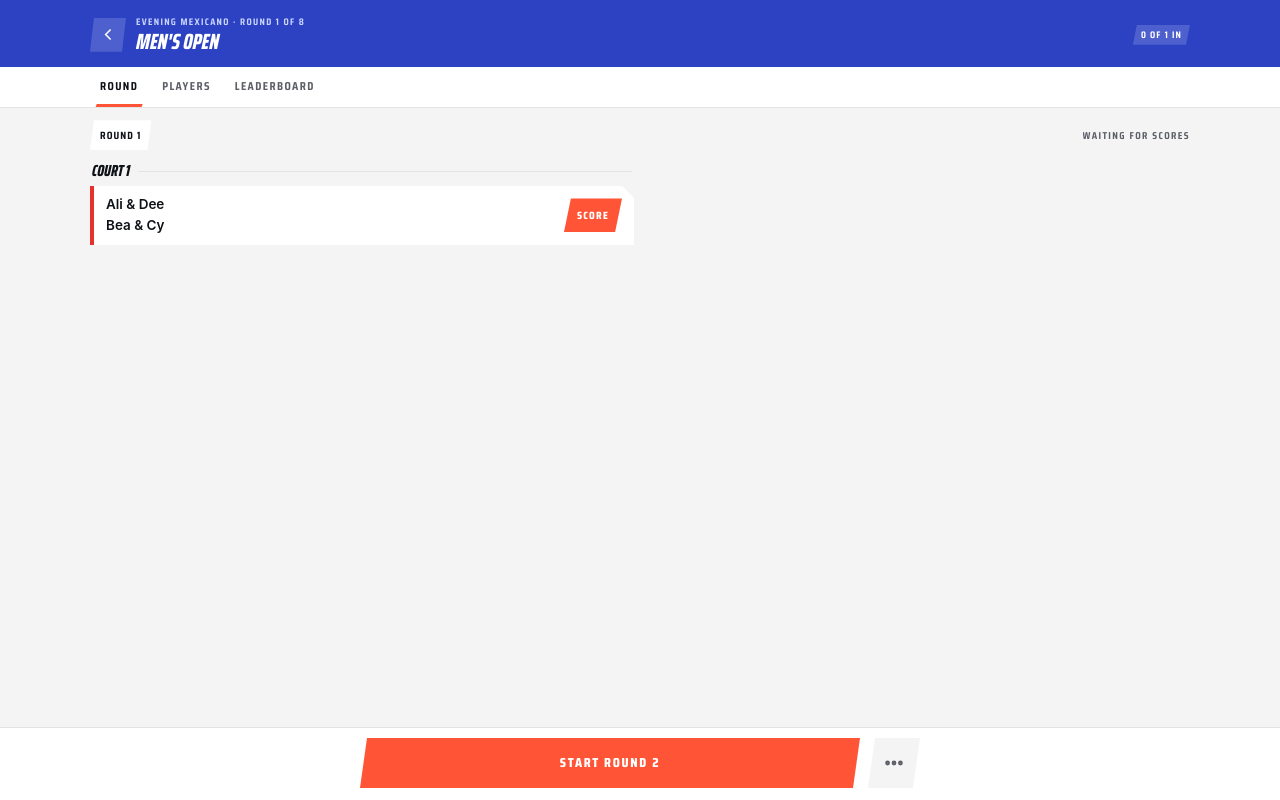
closes the ⋯ menu when a round starts, so Undo can't target the new round by mistake
Expected: the heading "Men's Open" is shown, [136,24,219,59]
Click the button named "More actions": (894, 763) [868,738,920,788]
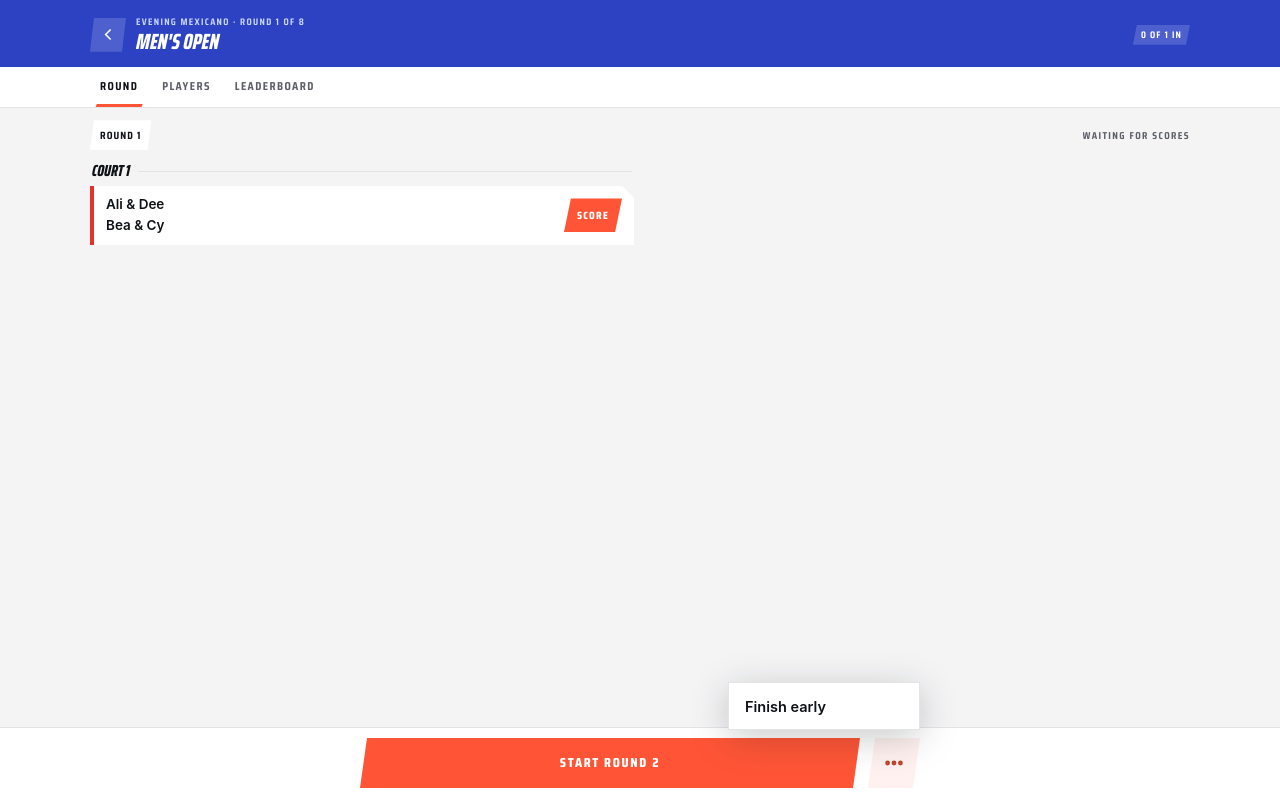
Result: the button "Finish early" is shown at [729,683,919,729]
Click the button "Start round 2": (610, 763) [360,738,860,788]
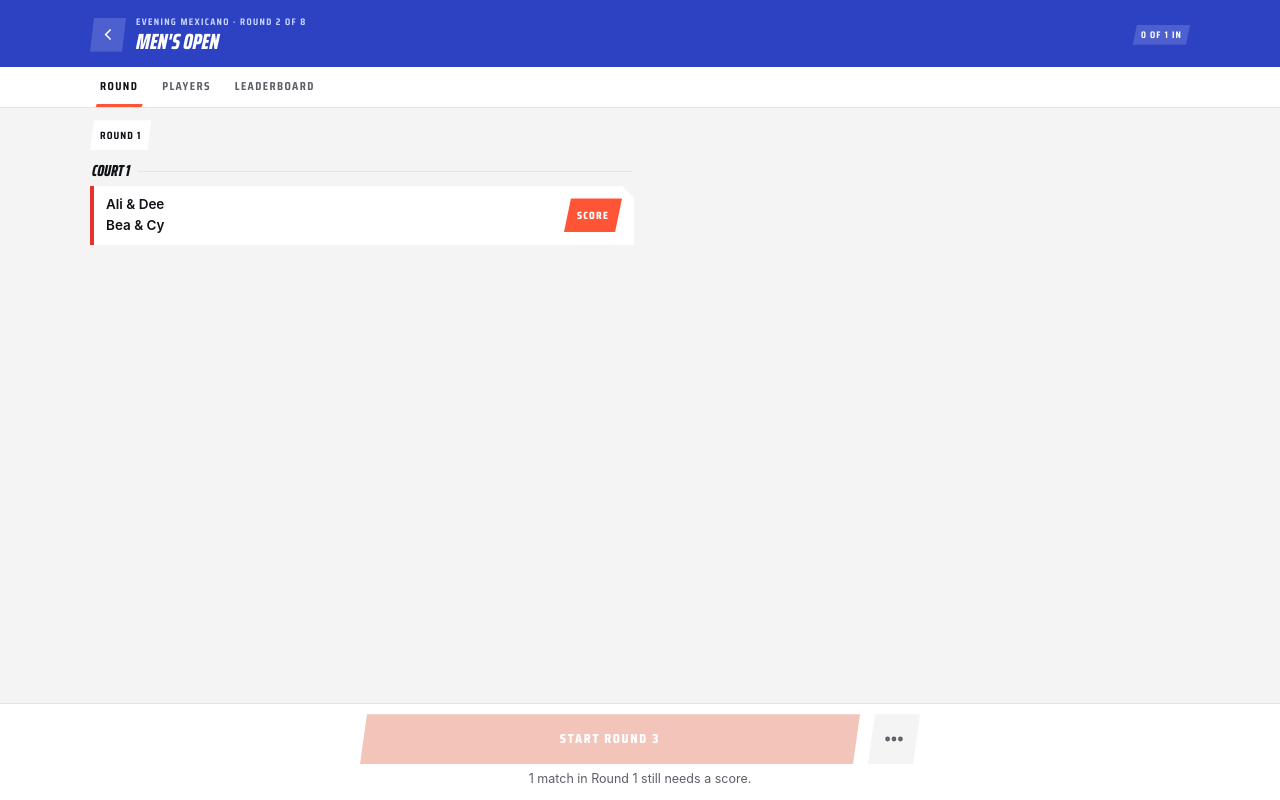
Result: the button "Finish early" is gone
